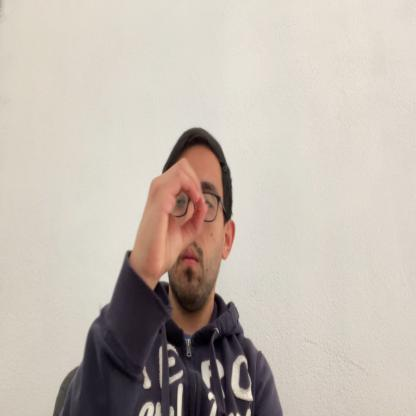O: (134, 156, 207, 277)
